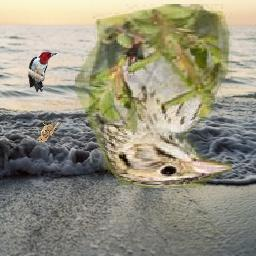Sparrow: (76, 4, 233, 188), (39, 122, 62, 143)
Woodpecker: (29, 52, 58, 93)
